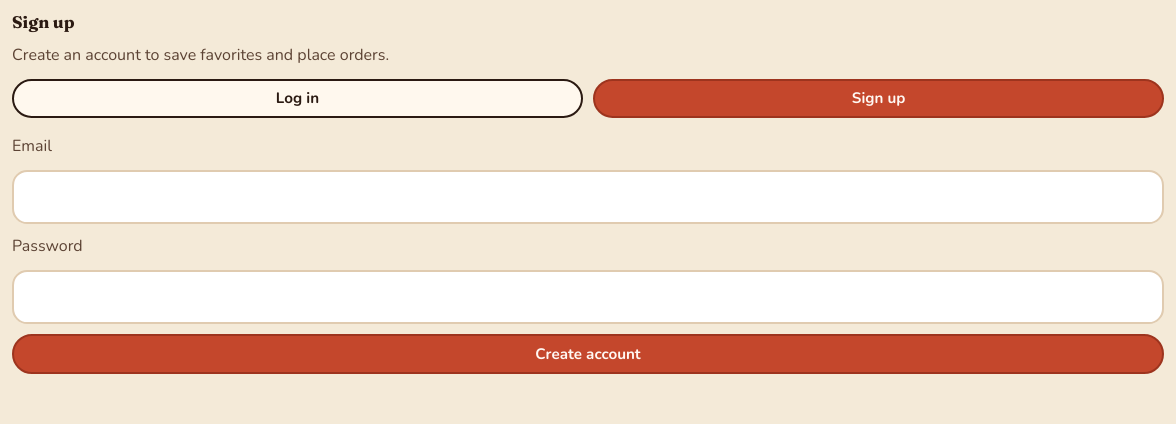
Scenario: AuthForm › validates email before submitting
Type "not-an-email" into the field labelled "Email" at (588, 197), box [12,170,1164,224]
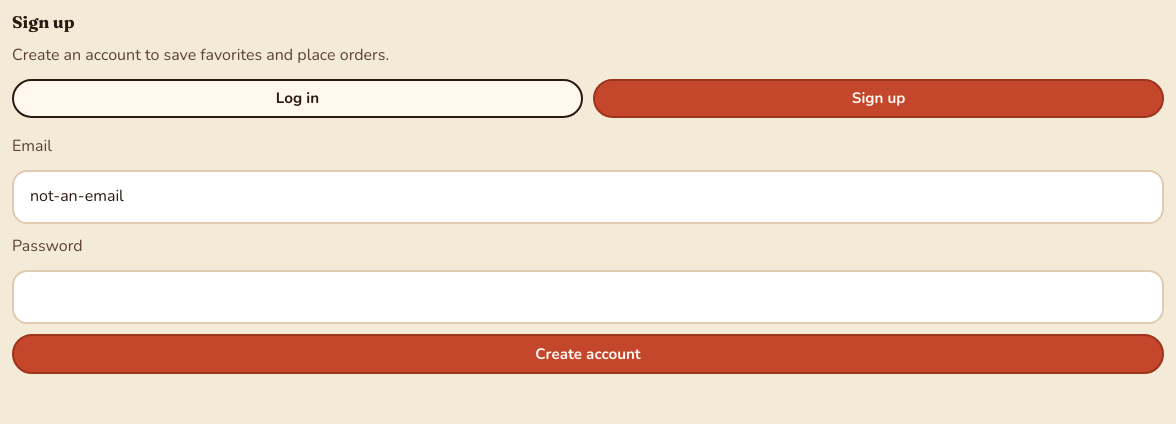
Type "password1" into the password field labelled "Password" at (588, 297), box [12,270,1164,324]
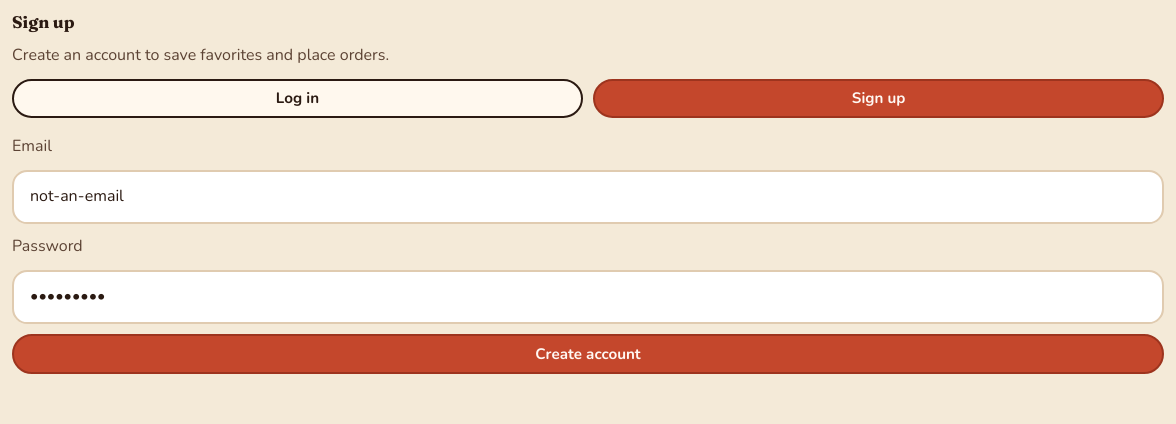
Click the button "Create account" at (588, 354), box [12,334,1164,374]
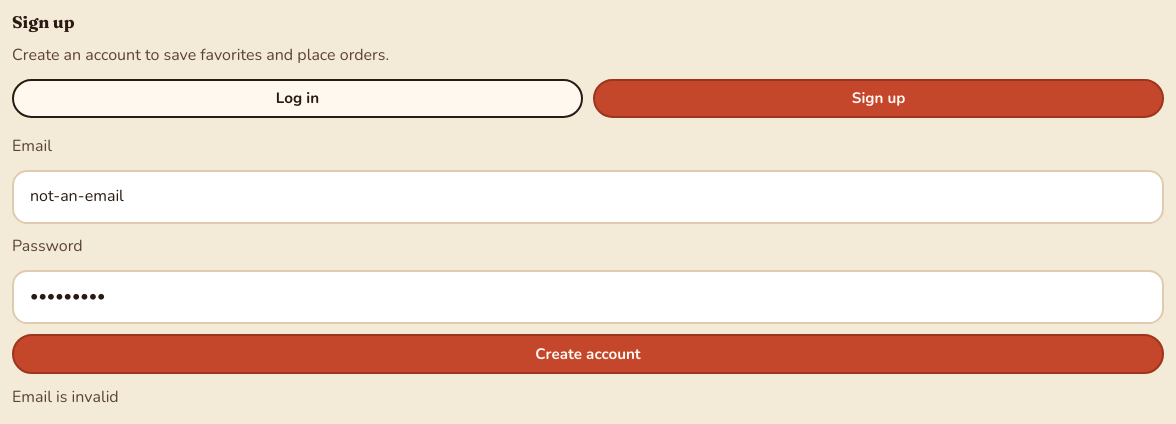
Now the message reads "Email is invalid", box [12,386,119,408]
